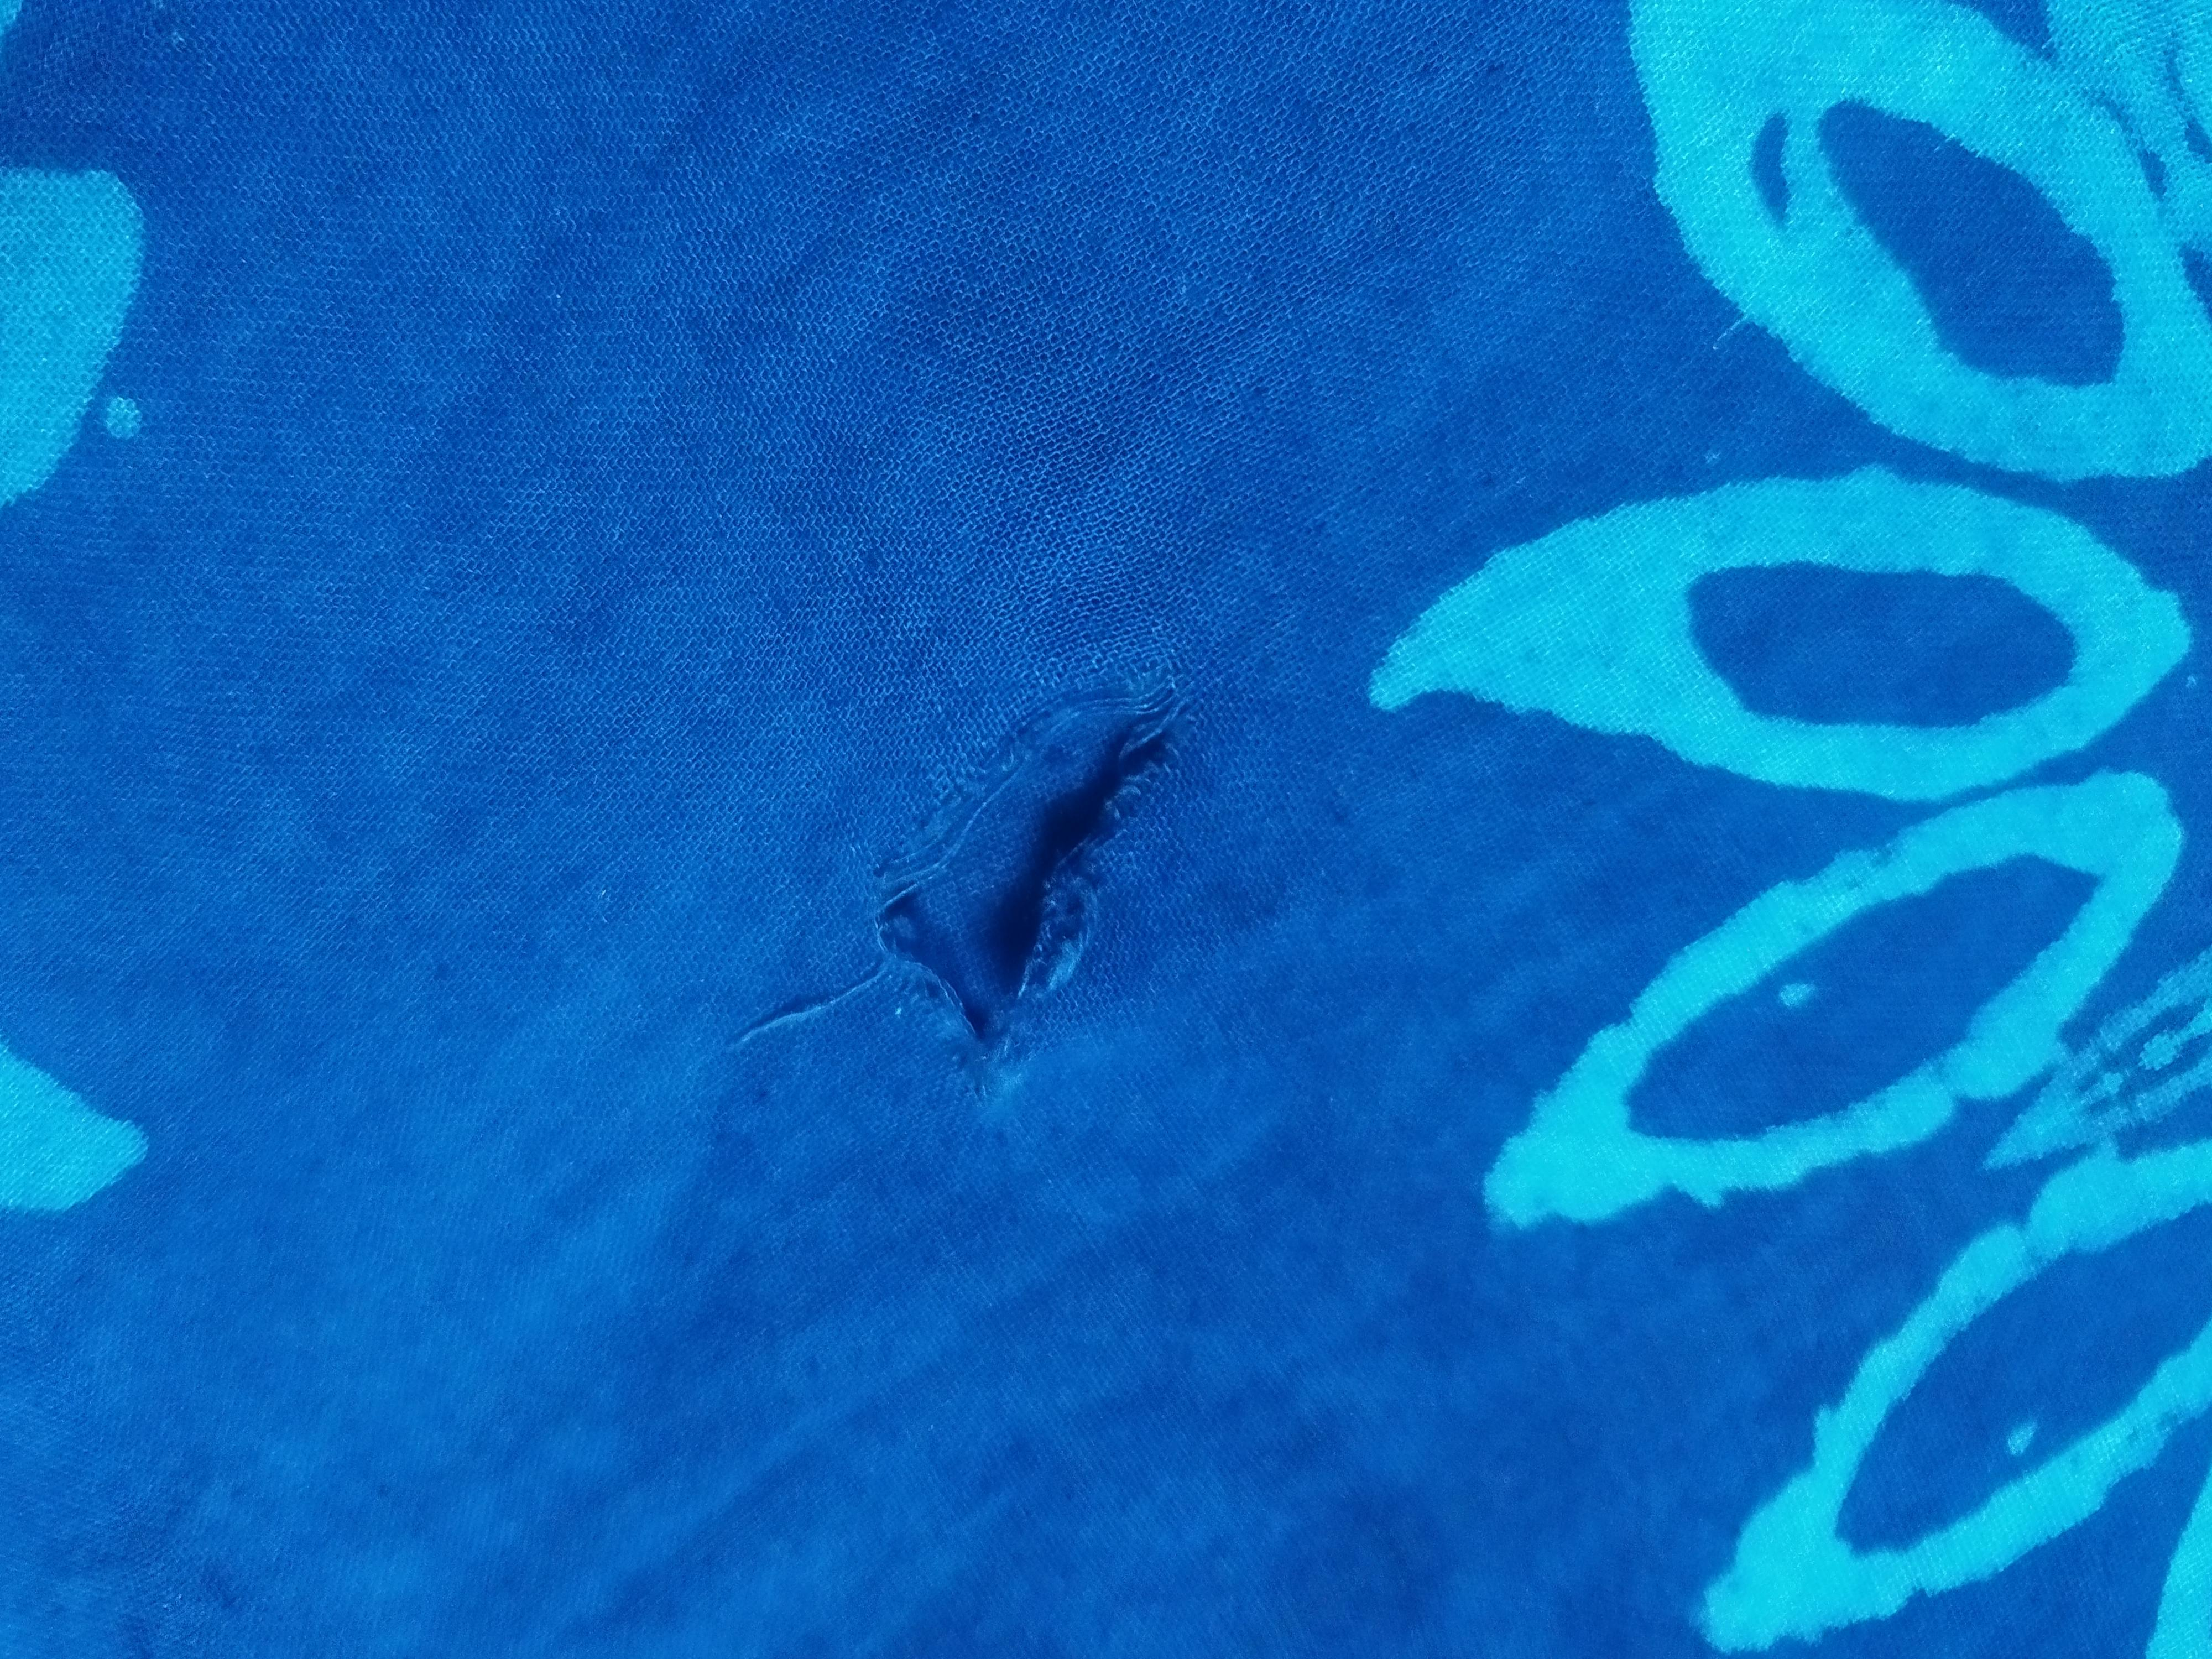hole: (845, 648, 1214, 1107)
